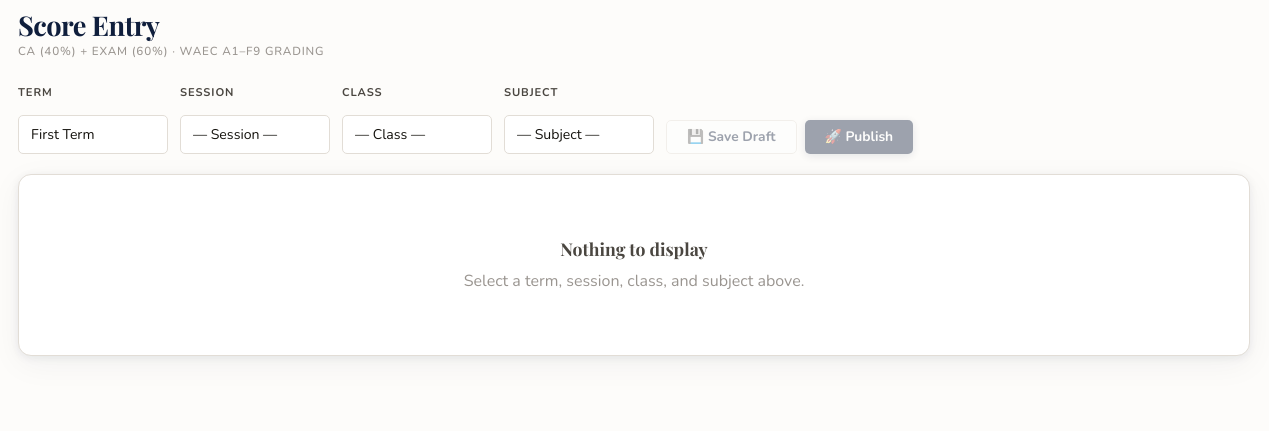
Test case: teacher saves scores with publish=true using backend payload fields
Select "2026/2027" in the 2nd dropdown at (255, 134), box [180,115,330,154]
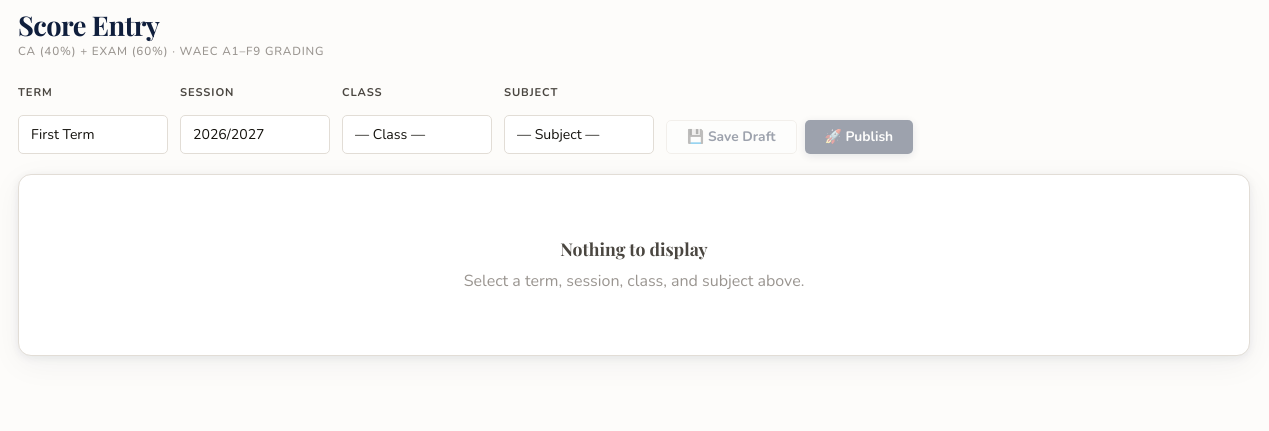
Select "JSS1 A" in the 3rd dropdown at (417, 134), box [342,115,492,154]
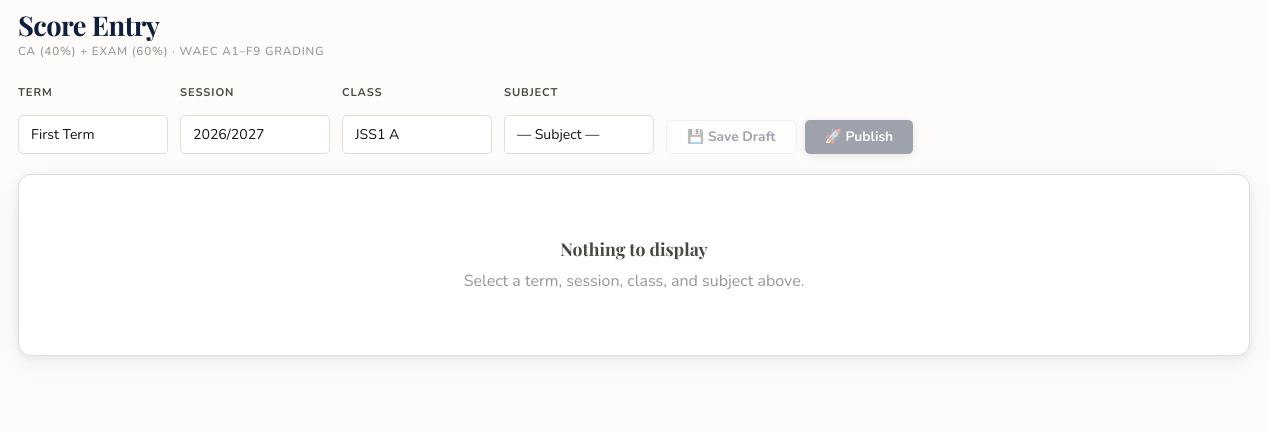
Select "Mathematics" in the 4th dropdown at (579, 134), box [504,115,654,154]
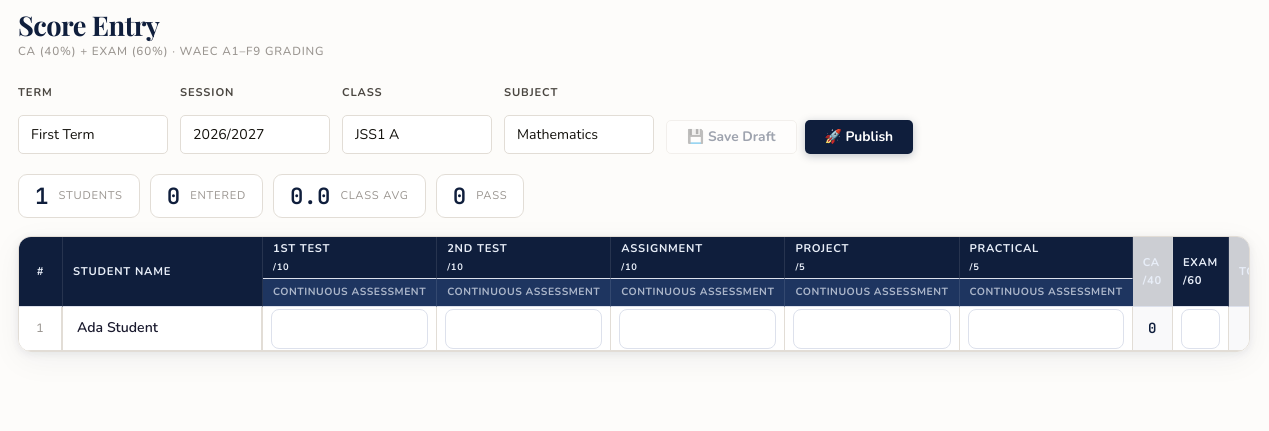
Check: the text "Ada Student" is shown, box [63,307,263,351]
Type "8" into the number field named "1st Test" at (350, 329), box [271,309,428,349]
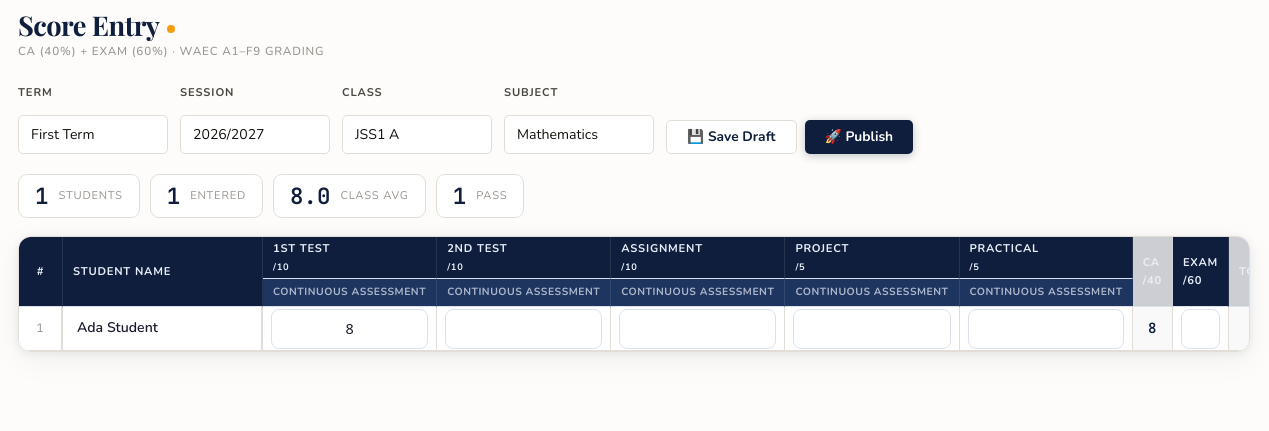
Click the button "🚀 Publish" at (859, 137), box [804,120,913,154]
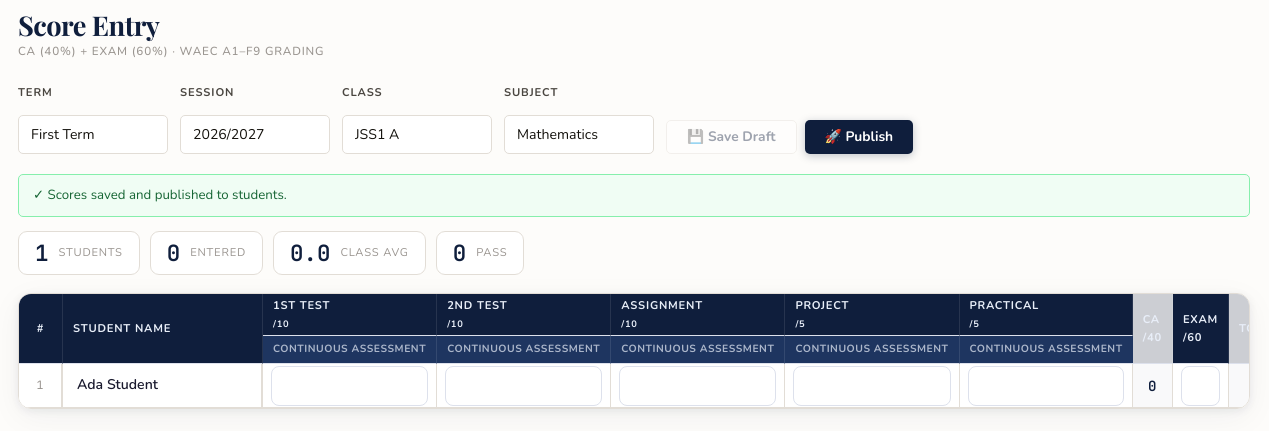
Check: the text "✓ Scores saved and published to students." is shown, box [18,174,1250,217]
